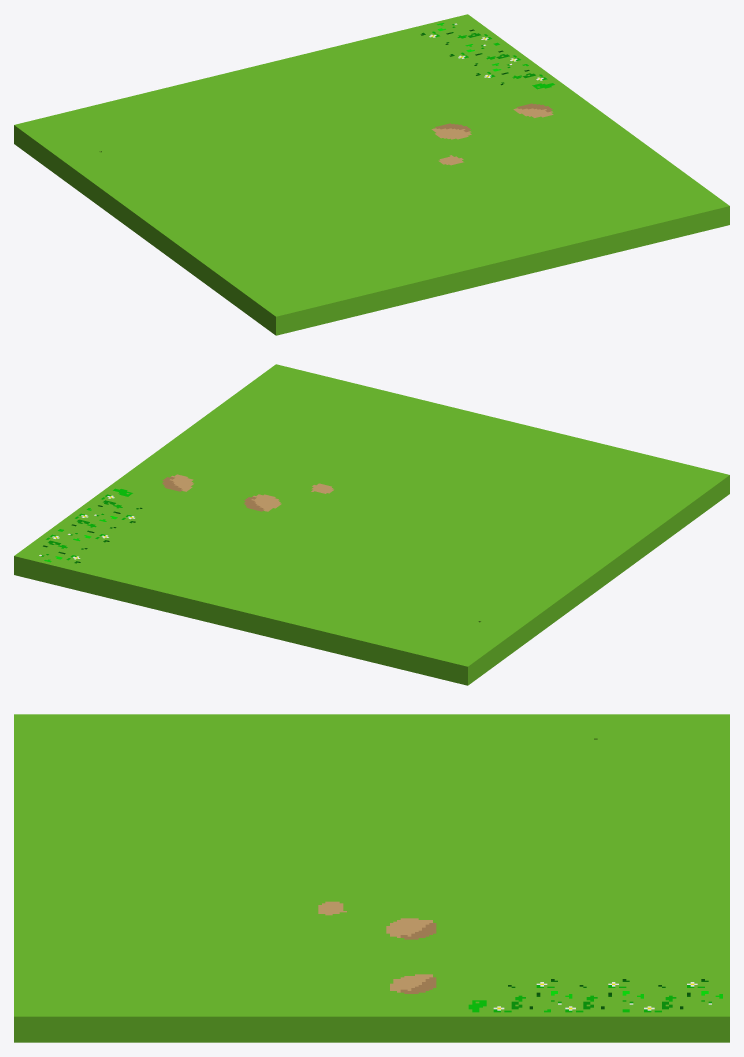
The model's file is map_v1-21.obj.
3 views of the same model, one above another, from view 1: azimuth 30°, elevation 25°; view 2: azimuth 150°, elevation 25°; view 3: azimuth 270°, elevation 25° (orthographic). The views are drawn at different scales.
Size of the model in its own units: 20 by 0.8 by 20.
Materials: 1 (1 with a texture image).
